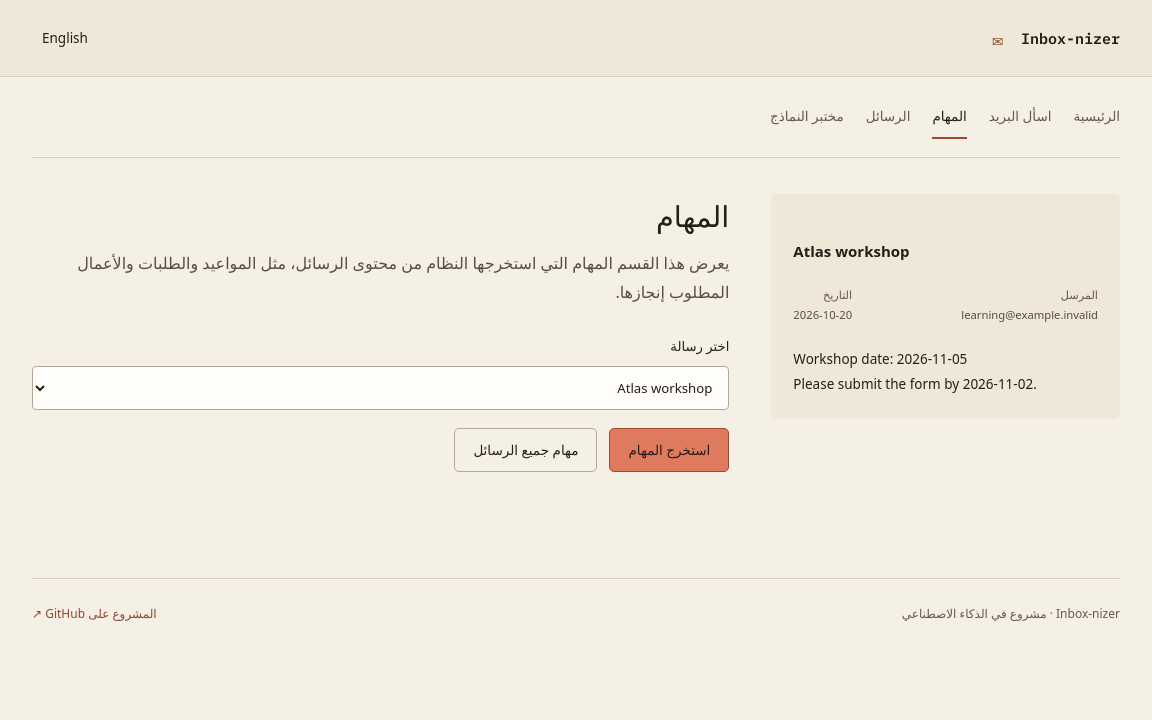
Scenario: tasks preserve deadlines and evidence without invented priority
The width and height of the screenshot is (1152, 720).
Click the button with aria-label "Switch to English": x=65, y=38 [32, 16, 98, 60]
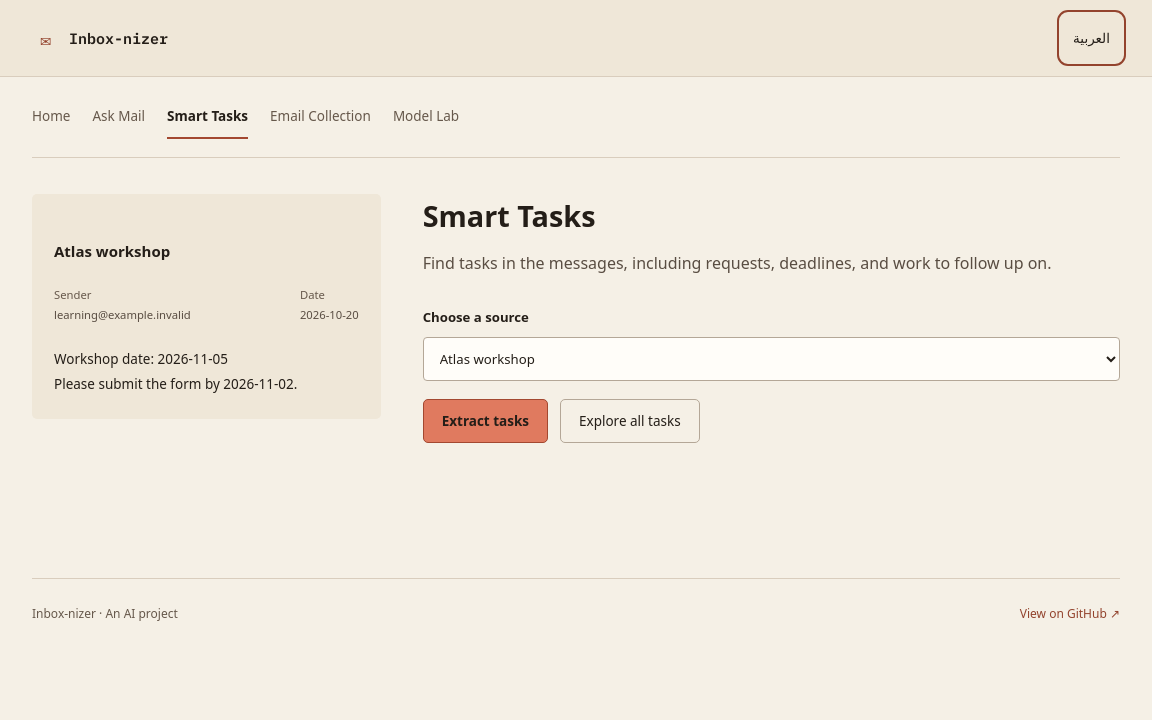
expect the dropdown labelled "Choose a source" is shown: met, box [423, 337, 1120, 381]
Click the button "Extract tasks": x=485, y=421 [423, 399, 548, 443]
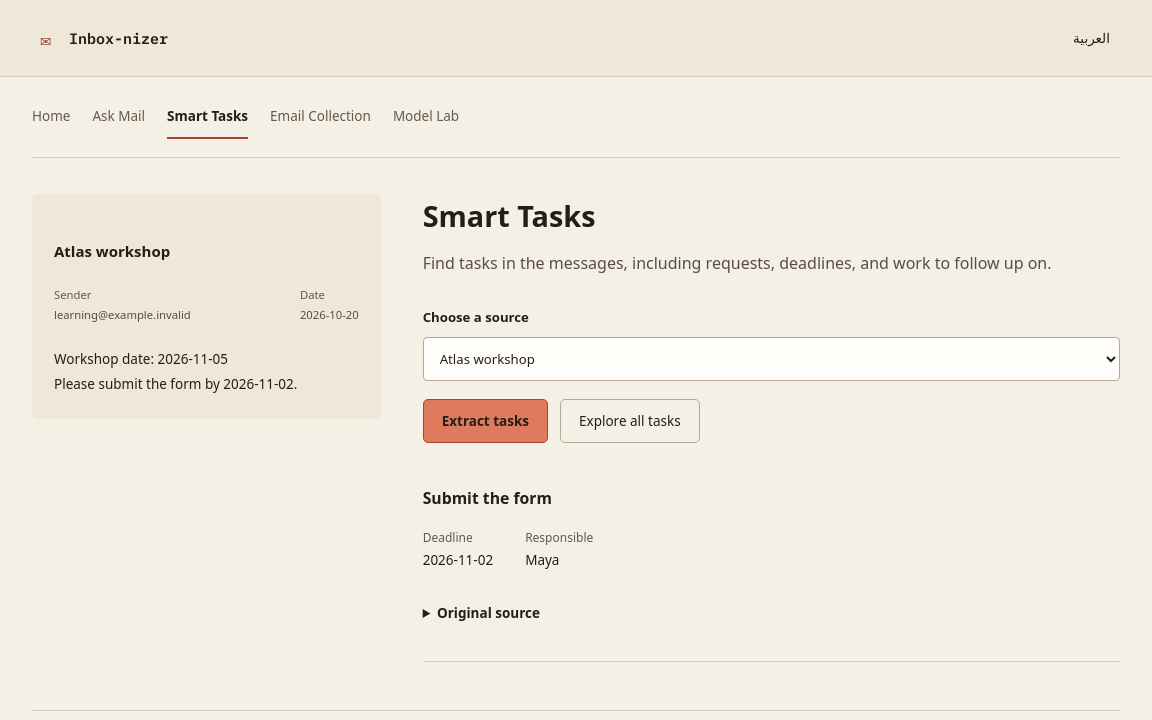
expect the heading "Submit the form" is shown: met, box [423, 487, 552, 509]
expect the text "Maya" is shown: met, box [525, 551, 559, 569]
expect the text "2026-11-02" is shown: met, box [423, 551, 493, 569]
Click the heading "Original source": x=488, y=613 [437, 604, 540, 622]
(page scrolled)
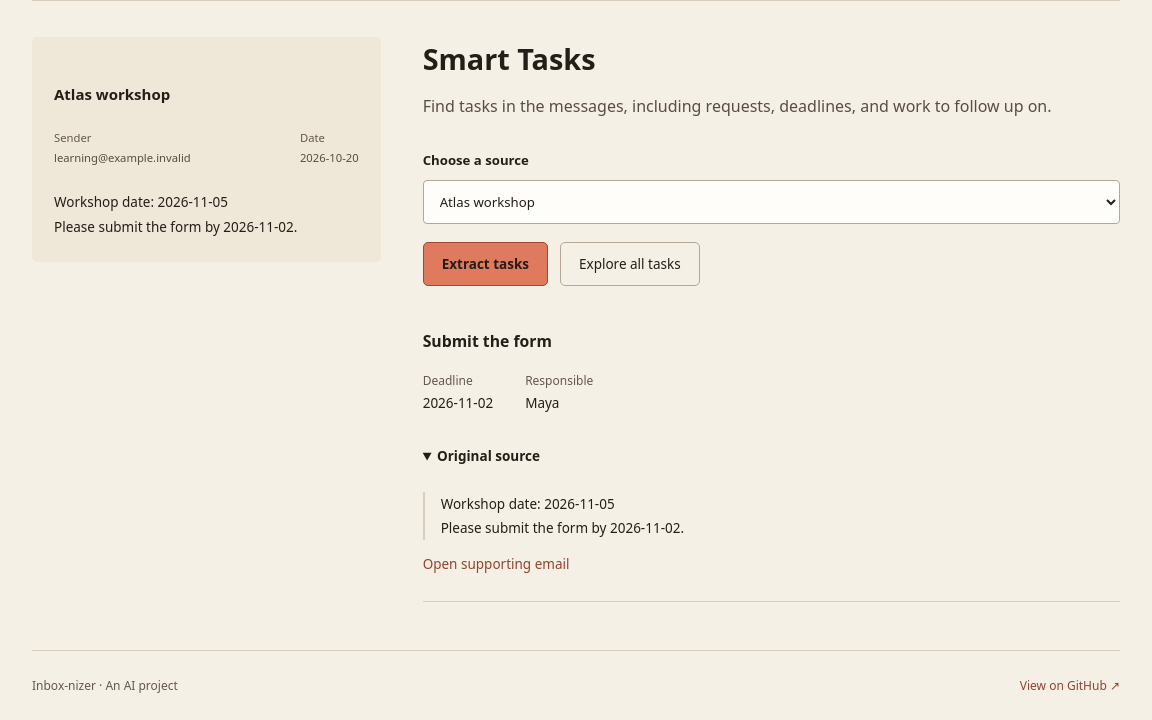
Click the link "Open supporting email": x=496, y=564 [423, 556, 570, 574]
(page scrolled)
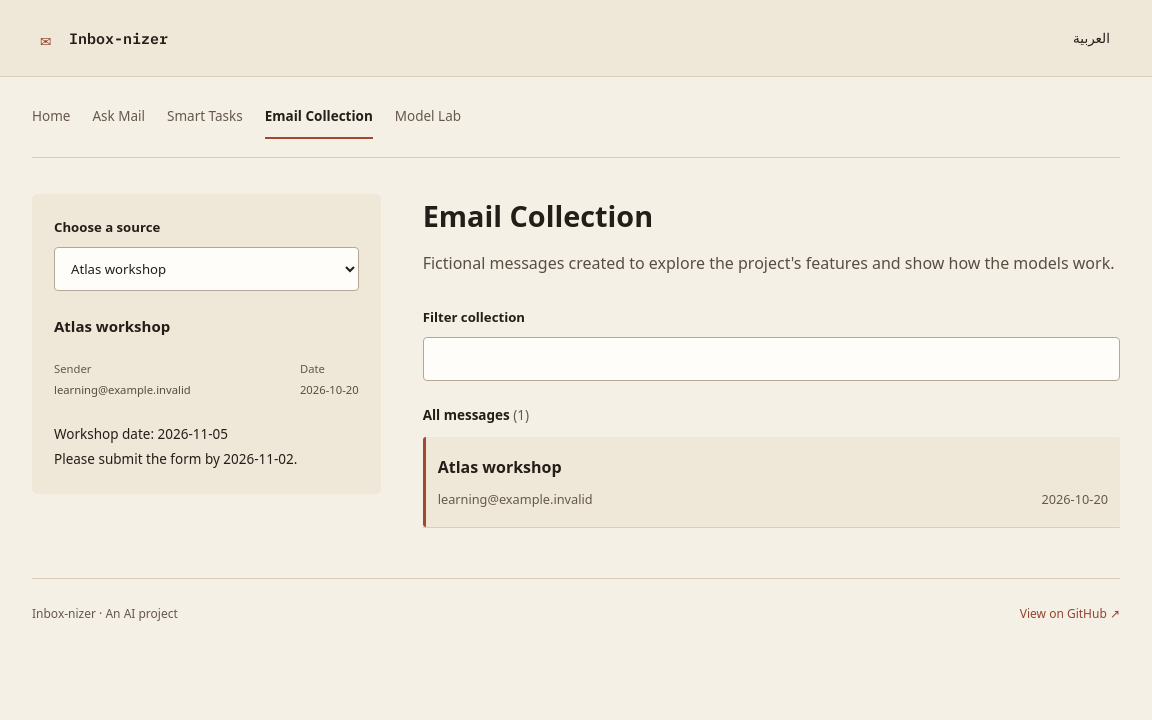
expect the field labelled "Filter collection" is shown: met, box [423, 337, 1120, 381]
